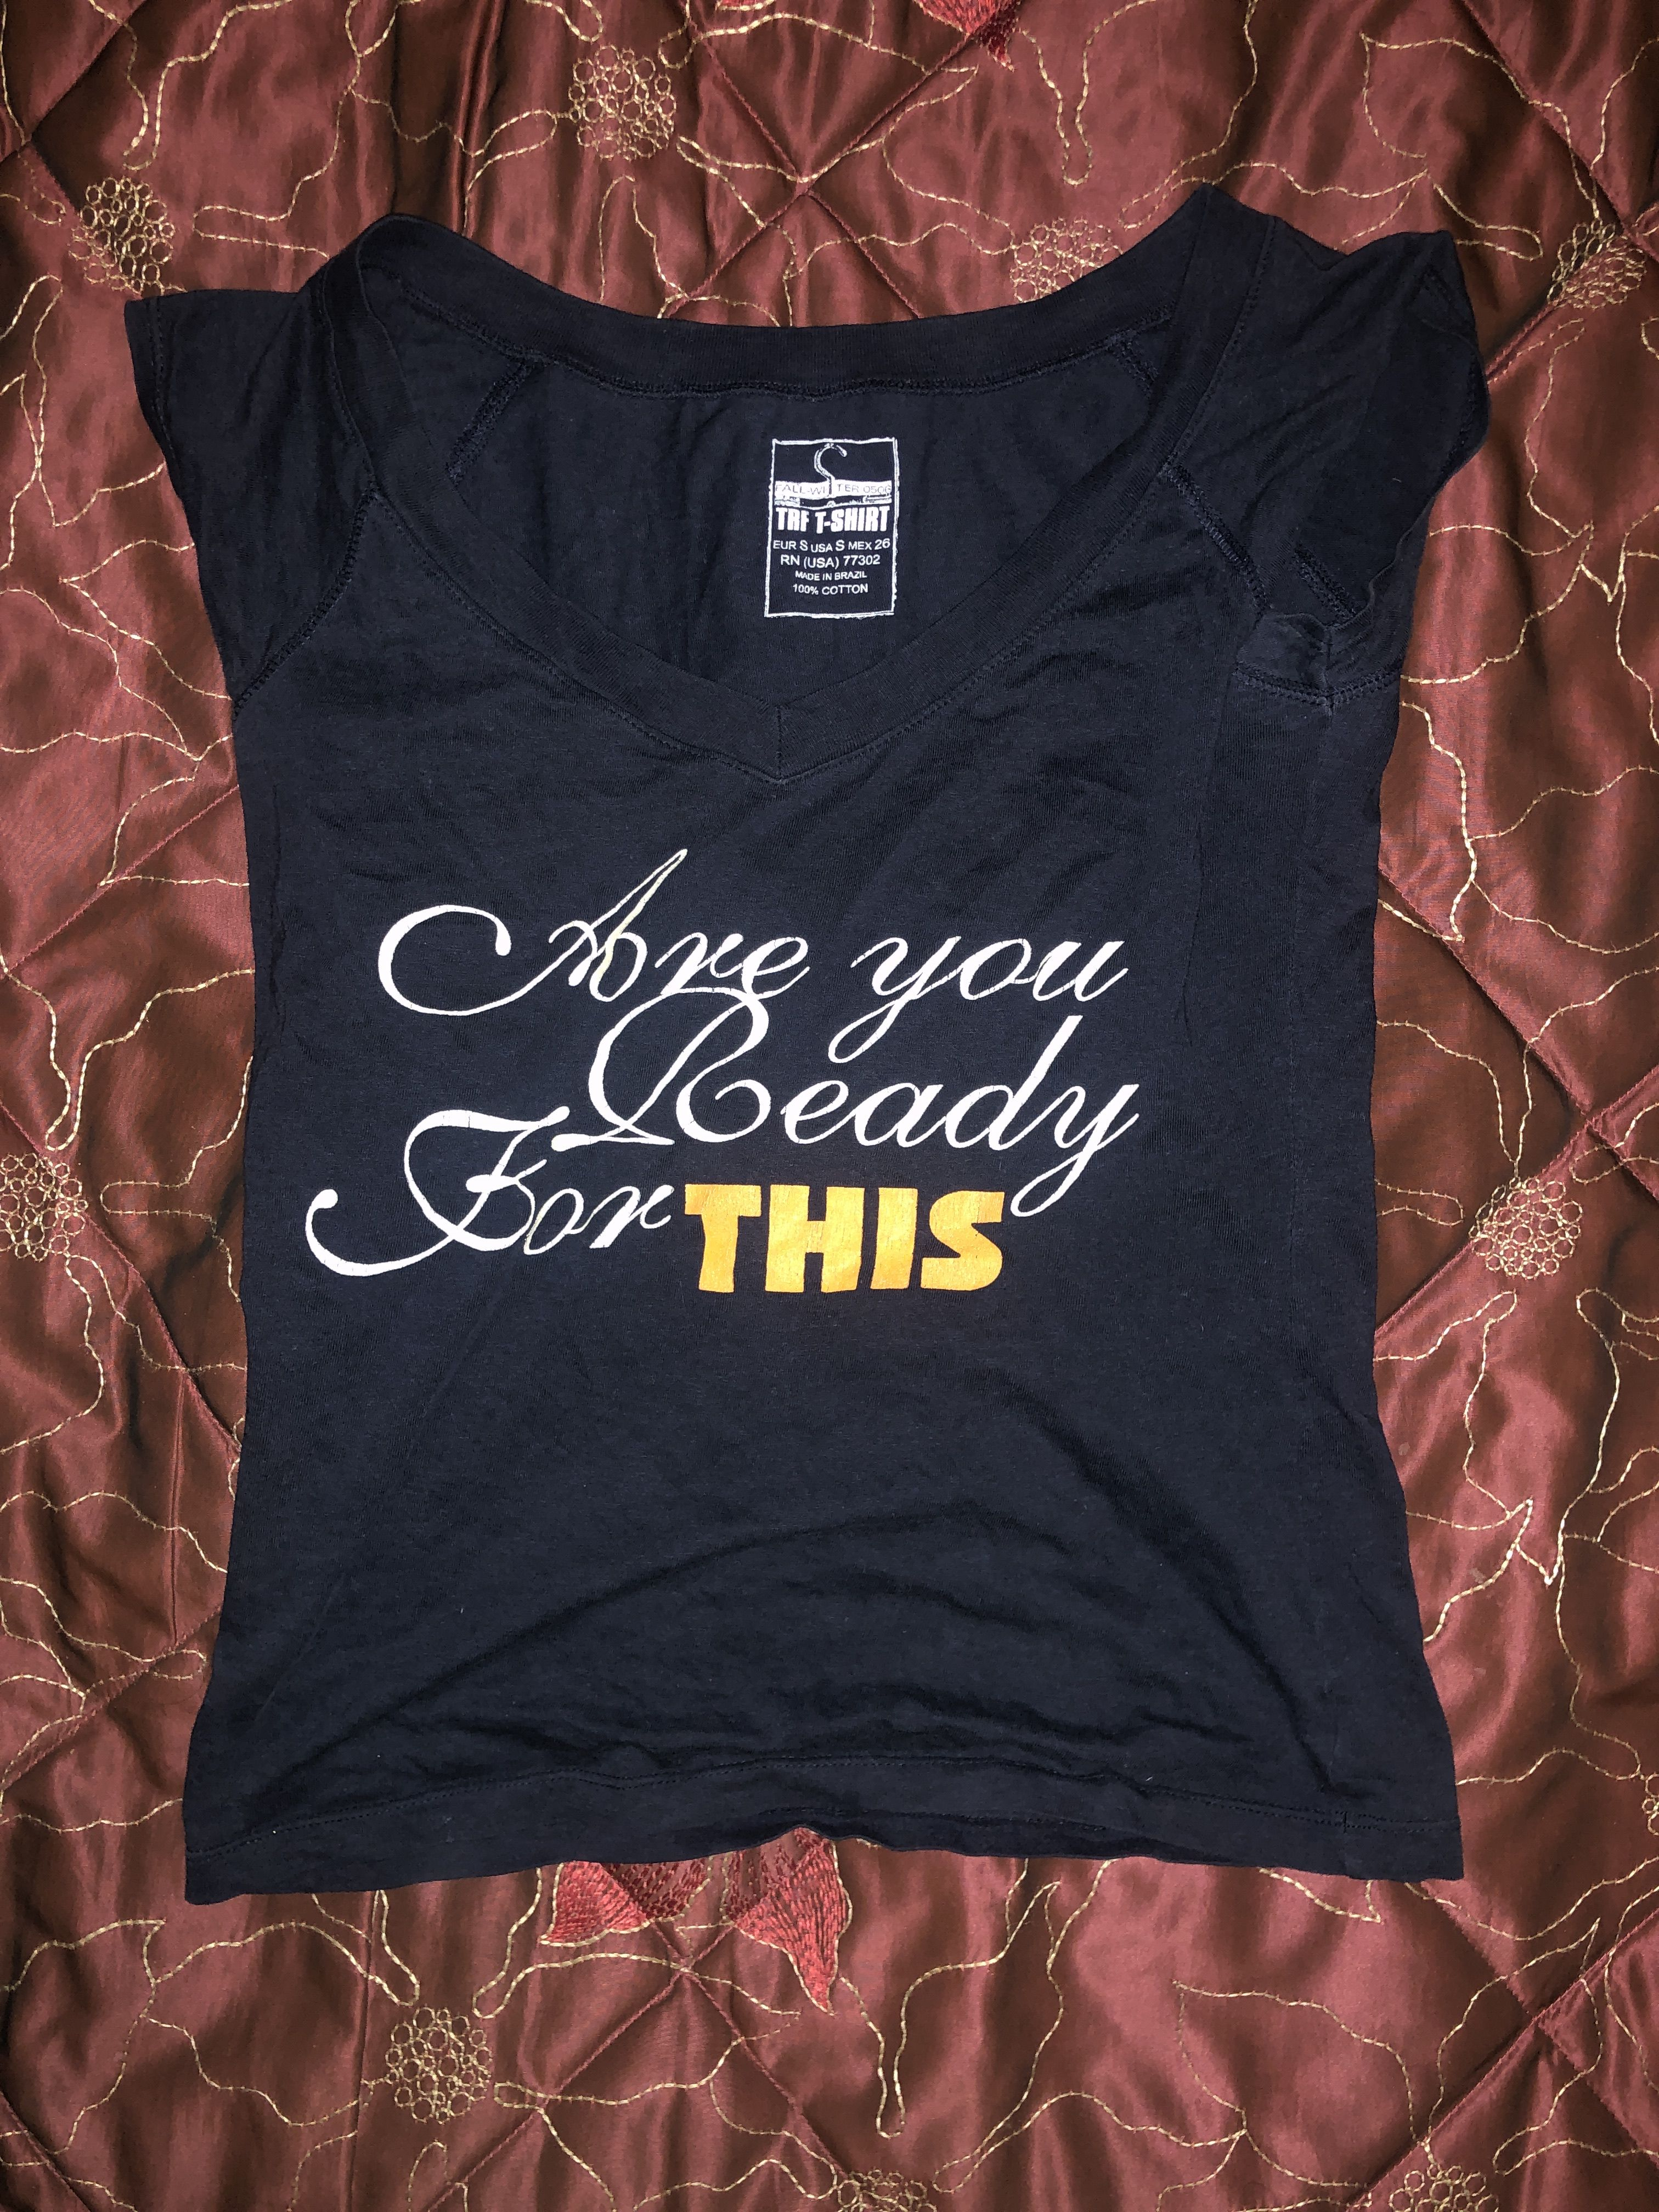clothes: (117, 186, 1527, 1886)
